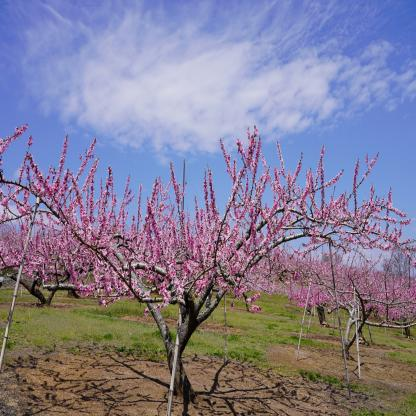Momo: (0, 119, 413, 311), (1, 224, 99, 299), (343, 255, 416, 331), (274, 249, 347, 312)
